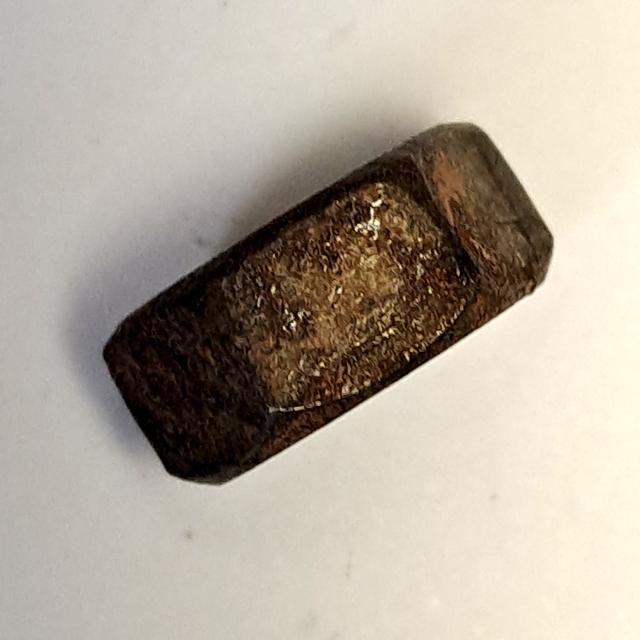Side_Rust: (88, 98, 574, 514)
